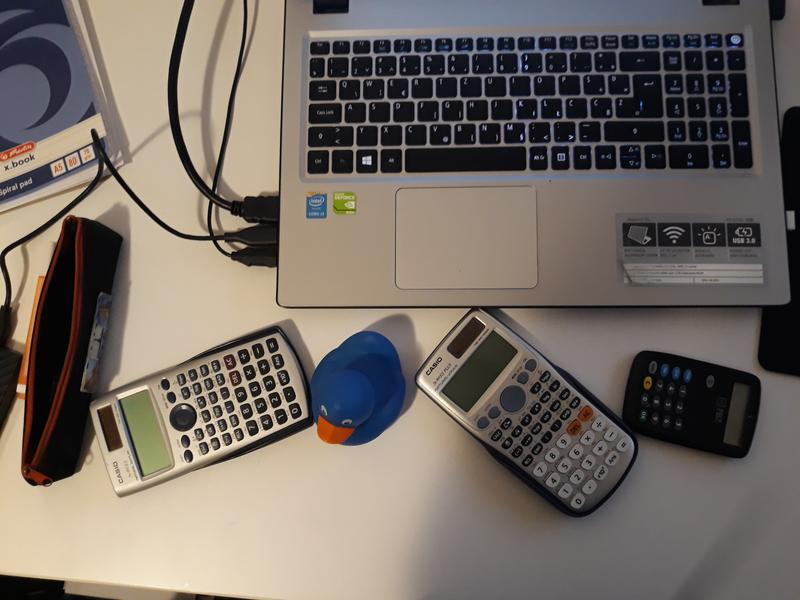CASIO_fx_991ES: (90, 312, 309, 499)
CASIO_fx_991ES_PLUS: (413, 289, 649, 526)
plava_patkica: (308, 319, 406, 464)
